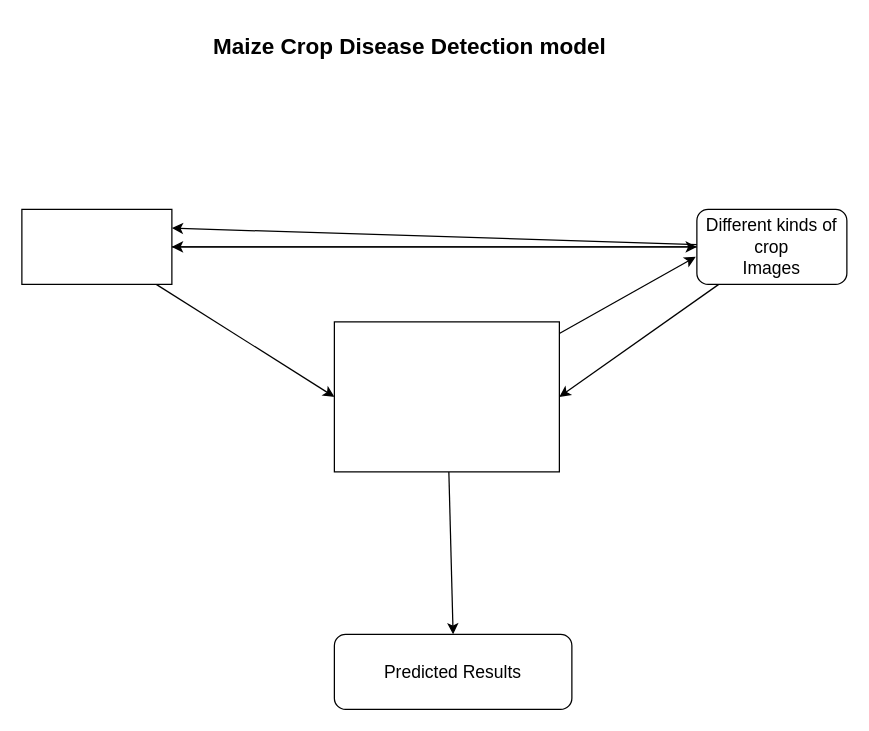
Some shapes in this 869 by 731 pixel diagram are drawn without their labels. The centre of each missing label's shape, as x and y in pixels:
"Core Supervised Model" goes at [446,396].
"Learning dataset" goes at [96,246].
